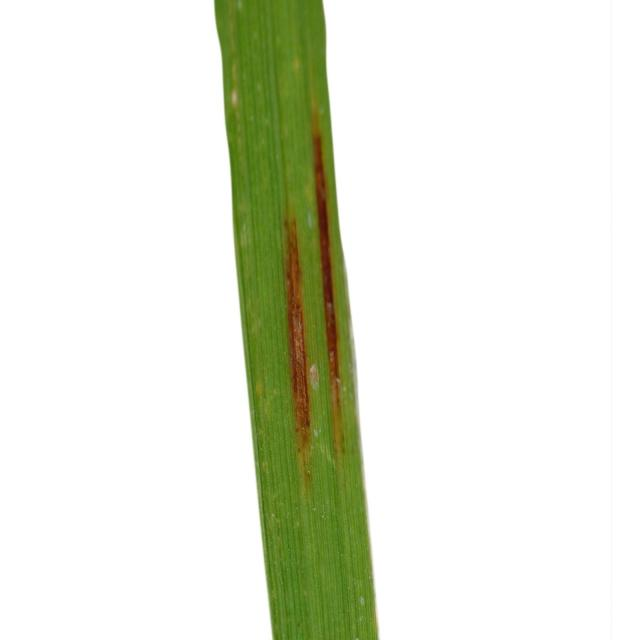Narrow brown: (178, 0, 400, 640)
